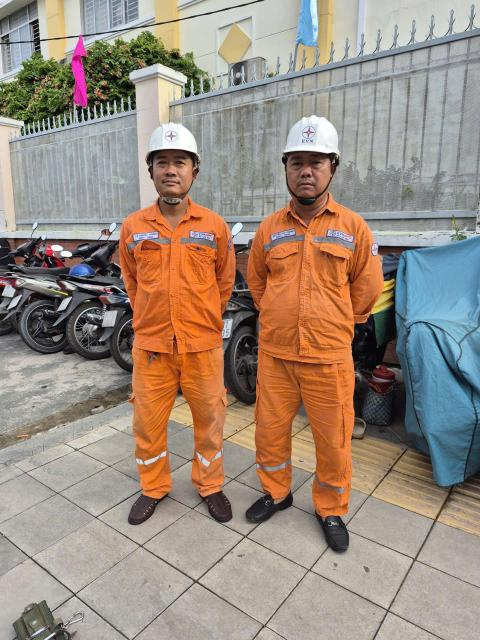helmet: (277, 107, 347, 161), (133, 109, 218, 152)
shoes: (310, 502, 363, 565), (240, 472, 295, 529), (120, 484, 173, 528), (190, 481, 240, 522)
